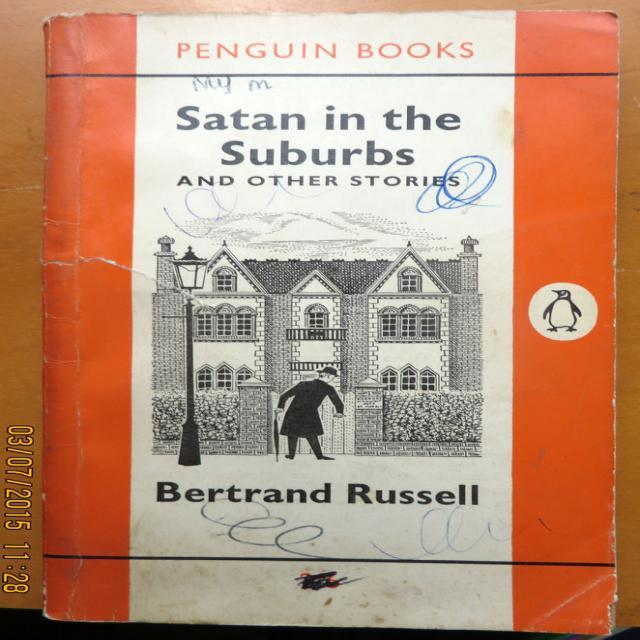book: (26, 13, 625, 640)
